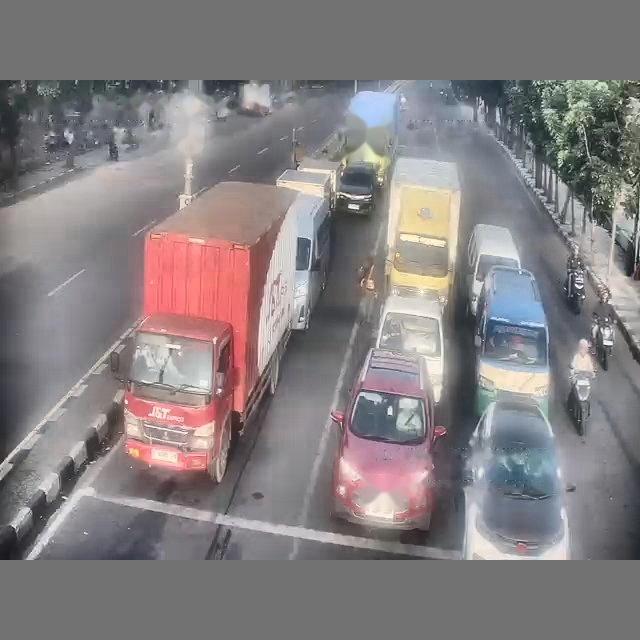Mobil: (330, 348, 446, 530), (462, 400, 570, 559), (336, 162, 376, 214)
Motor: (568, 371, 595, 436), (592, 314, 614, 370), (566, 267, 586, 314), (108, 142, 118, 160)
Truk: (110, 181, 297, 482), (385, 156, 460, 310), (340, 91, 398, 186), (297, 156, 340, 209)
